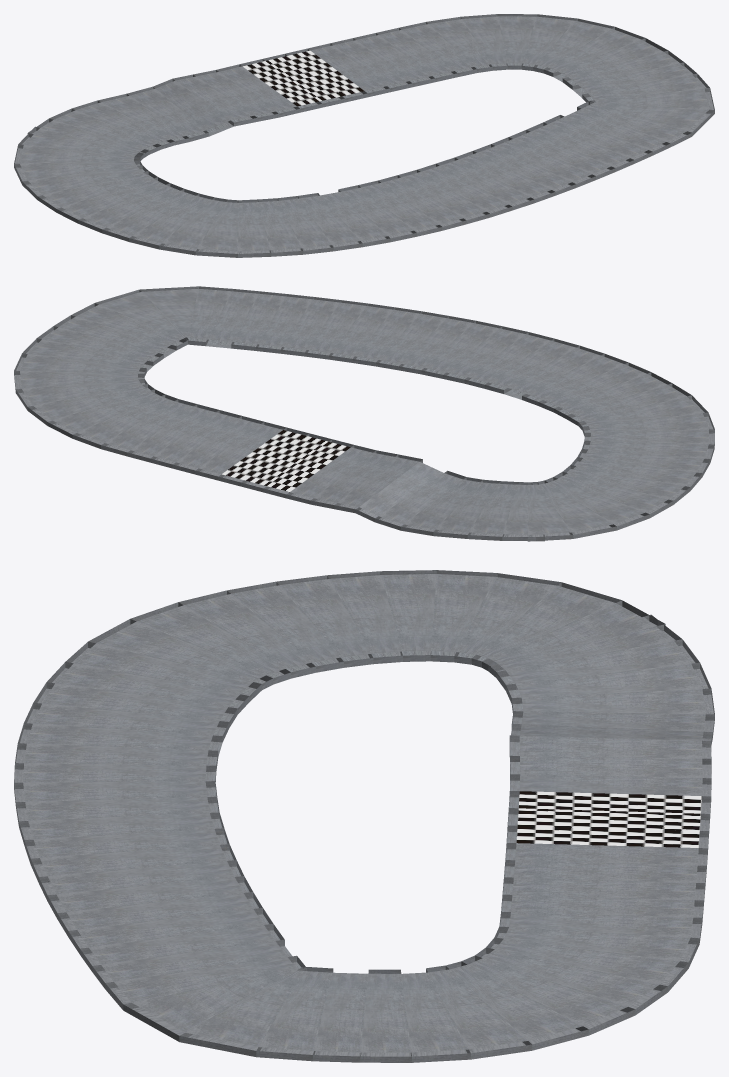
Rendered from track2finalfloor.obj.
3 views of the same model, one above another, from view 1: azimuth 30°, elevation 25°; view 2: azimuth 150°, elevation 25°; view 3: azimuth 270°, elevation 25° (orthographic). The views are drawn at different scales.
Visible parts, largest first — view 1: Cube_Cube.001; view 2: Cube_Cube.001; view 3: Cube_Cube.001.
Boxes of the visible parts, <box> form: Cube_Cube.001: <box>14,14,714,257</box>; Cube_Cube.001: <box>14,286,714,541</box>; Cube_Cube.001: <box>14,570,714,1062</box>.
Size of the model in its own units: 383 by 6.85 by 234.
